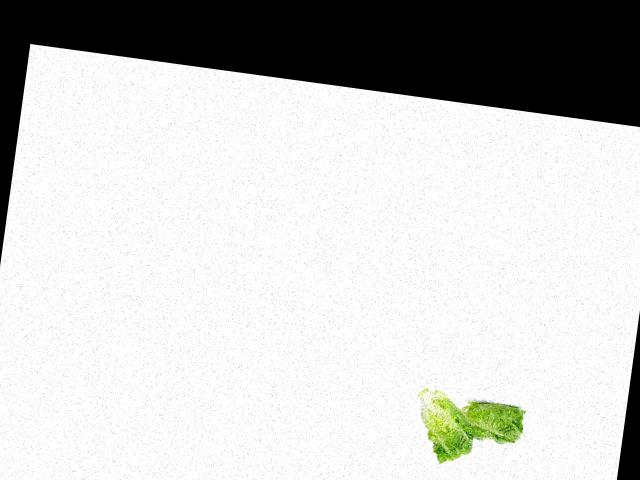lettuce: (408, 381, 487, 465)
